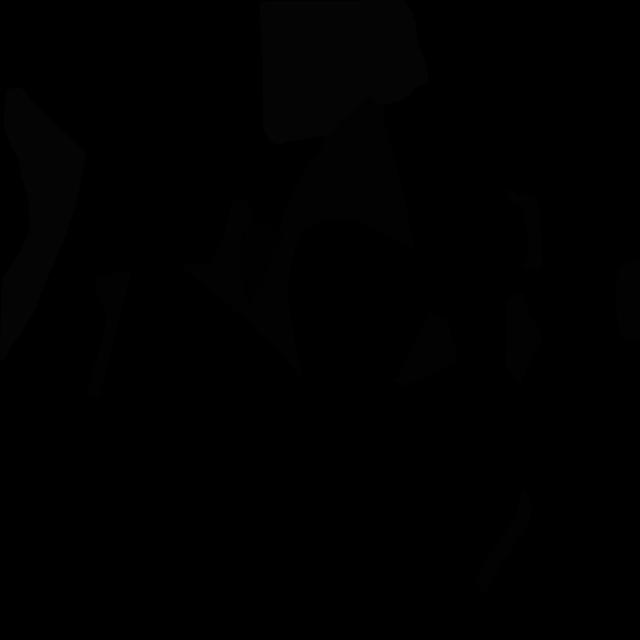cardboard: (248, 96, 414, 383), (179, 199, 252, 320), (475, 485, 532, 593), (88, 271, 131, 399), (393, 311, 457, 387), (504, 292, 543, 384), (507, 189, 543, 272), (616, 258, 640, 344)
rigid_plastic: (241, 220, 285, 301)
soft_plastic: (259, 0, 428, 145), (0, 87, 86, 364)
